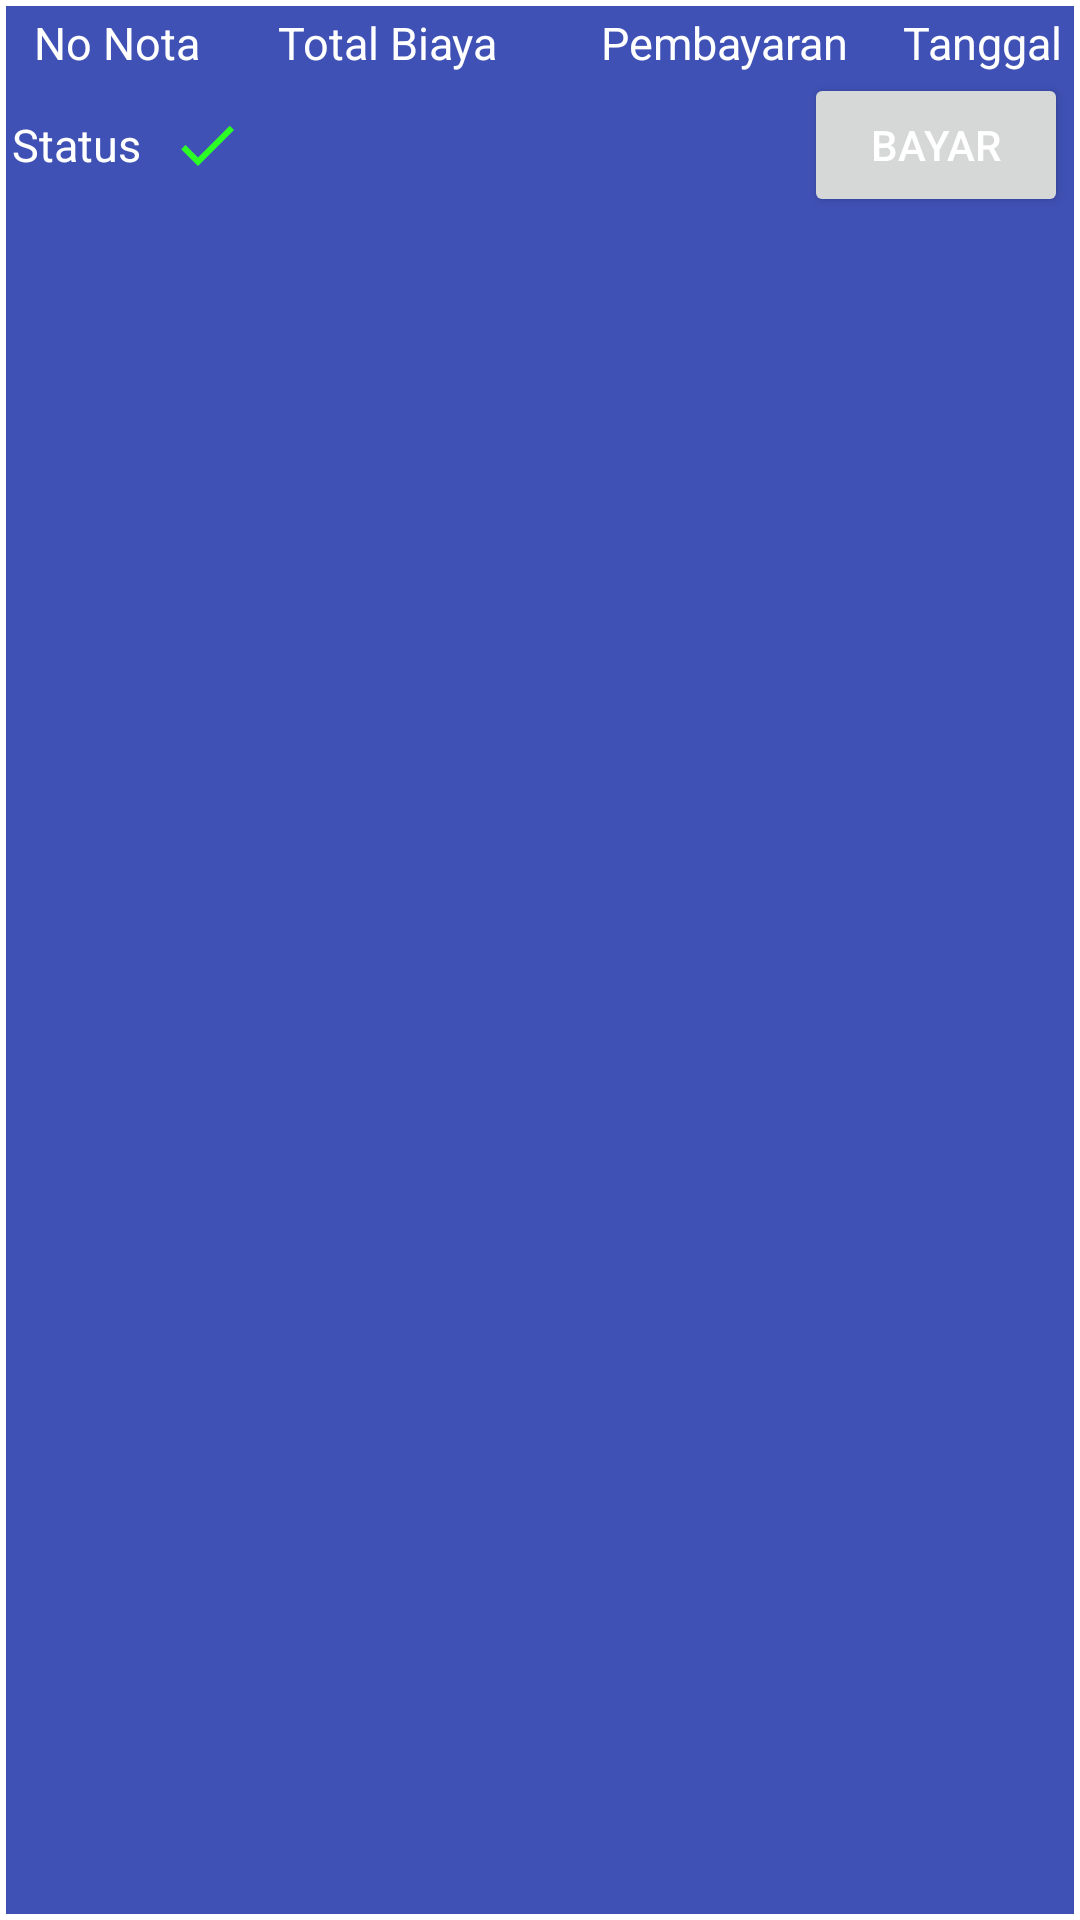

Icons on this 1080×1920 Android screen, each with the point to tap as (x,y):
berhasil: (207,146)
